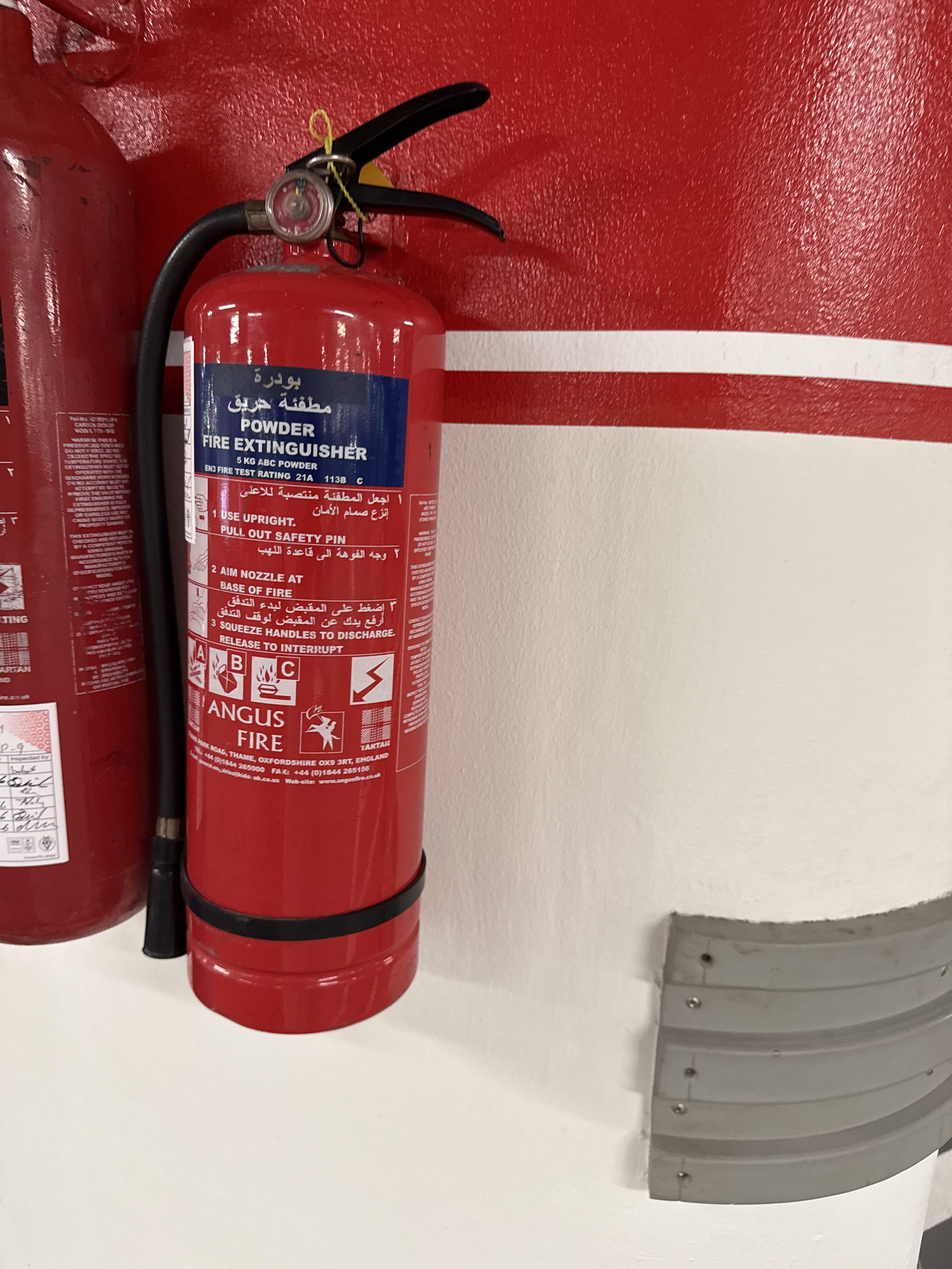fire_extinguisher: (135, 79, 506, 1035), (0, 1, 156, 947)
